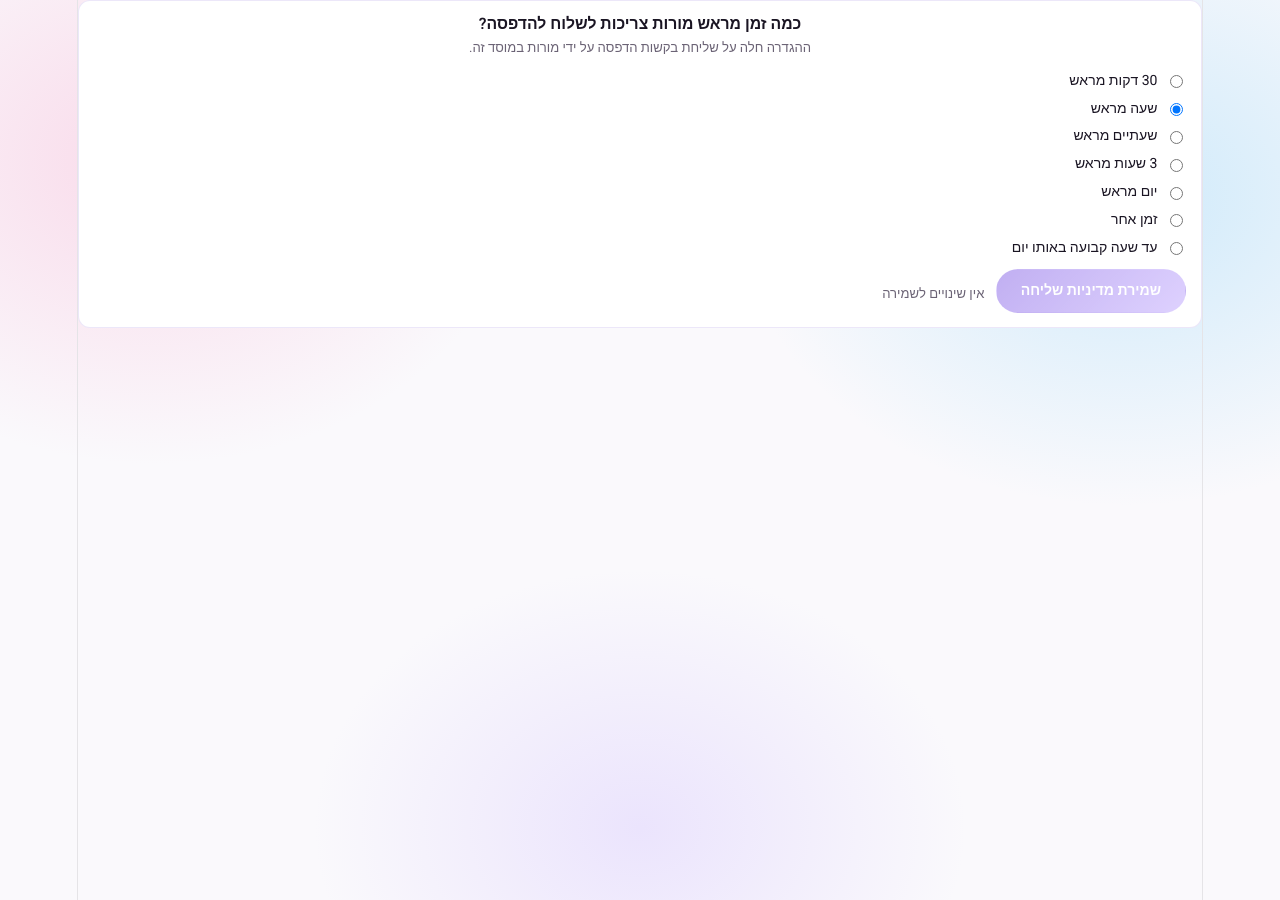
Scenario: PrintingSubmissionPolicySettings › saves a 30-minute preset as relative_notice with cutoff null
Click the radio button labelled "30 דקות מראש": x=1176, y=82 left=1170, top=75, right=1183, bottom=88
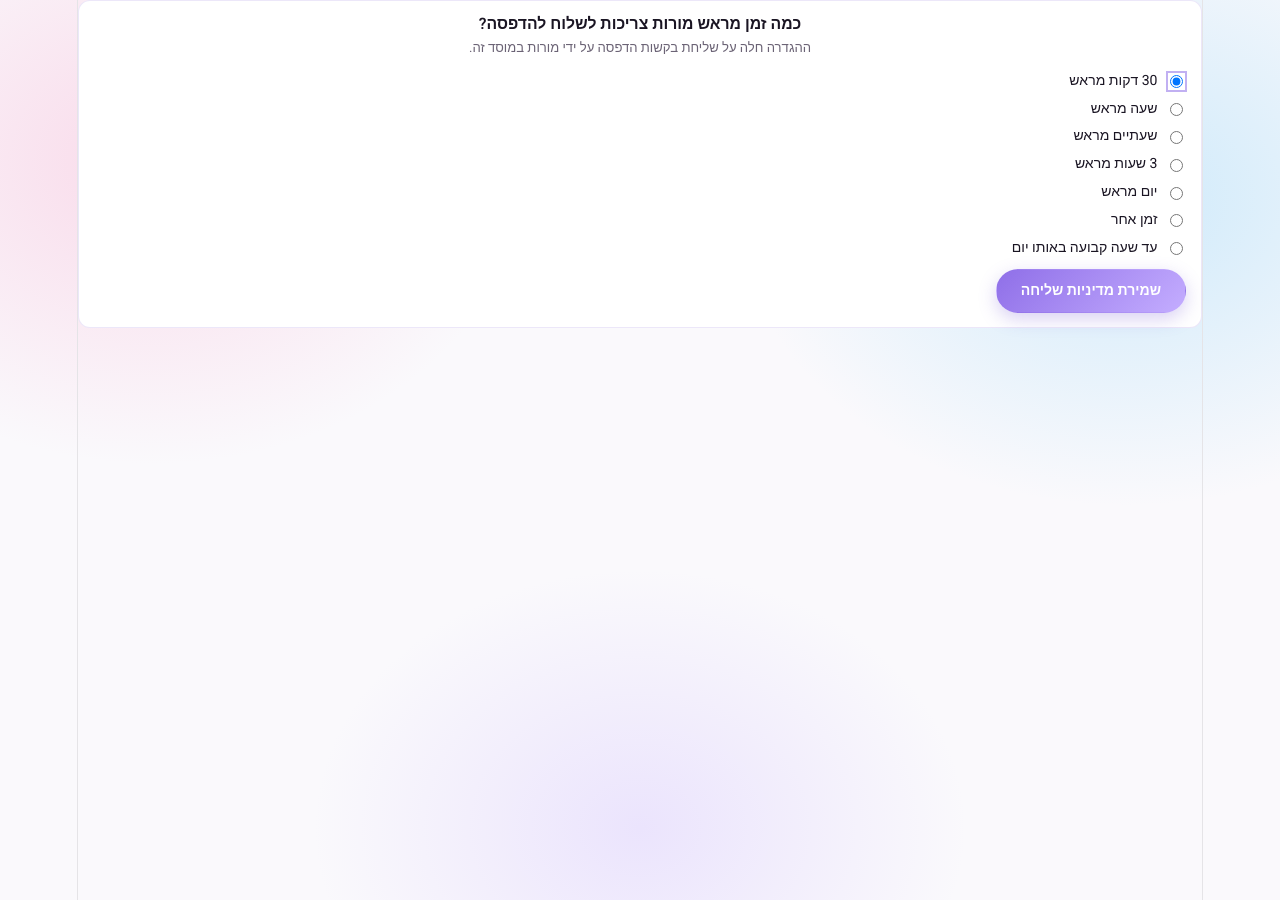
Click the button "שמירת מדיניות שליחה": x=1091, y=291 left=996, top=269, right=1186, bottom=313
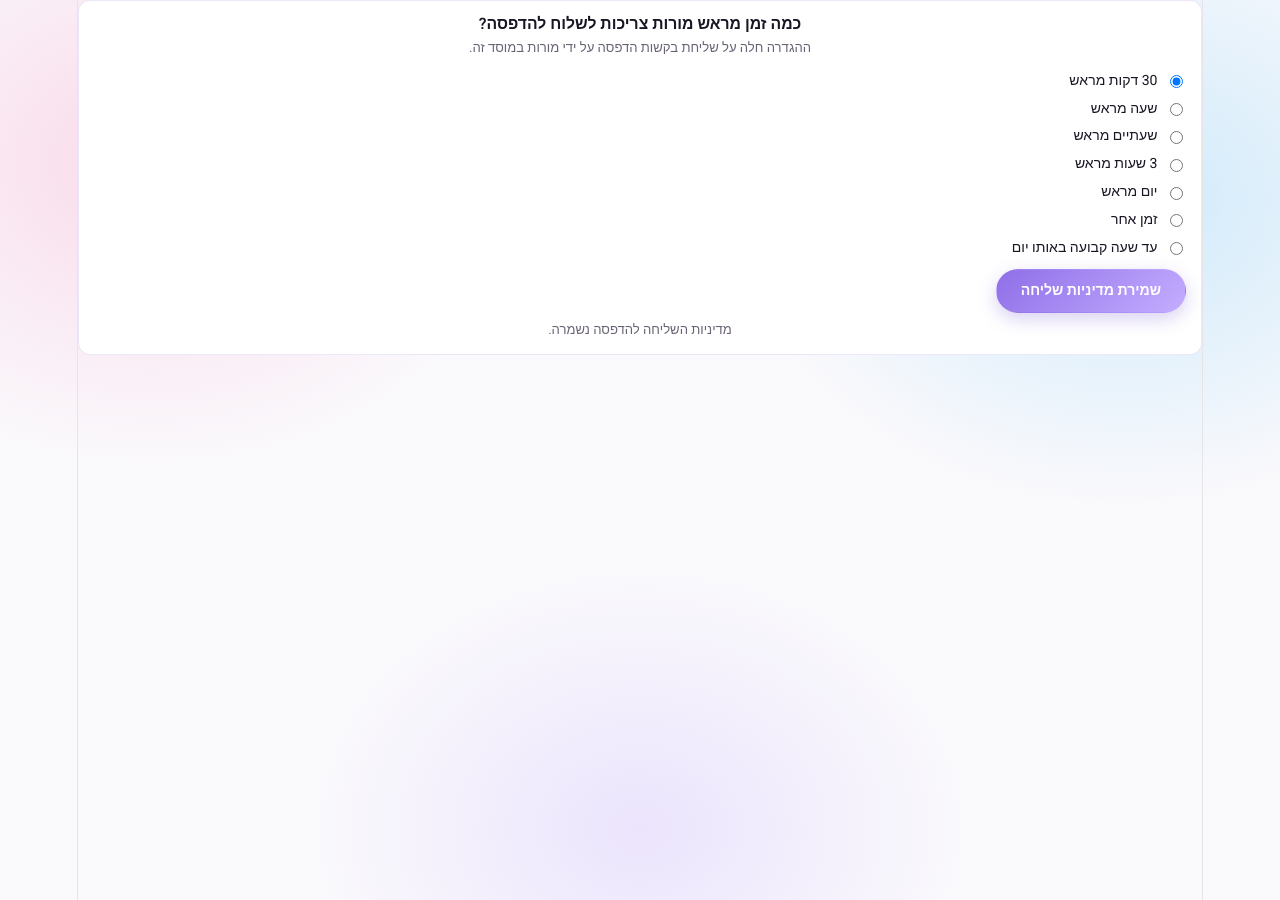
Check: the message shows "נשמרה", box left=548, top=320, right=732, bottom=340
